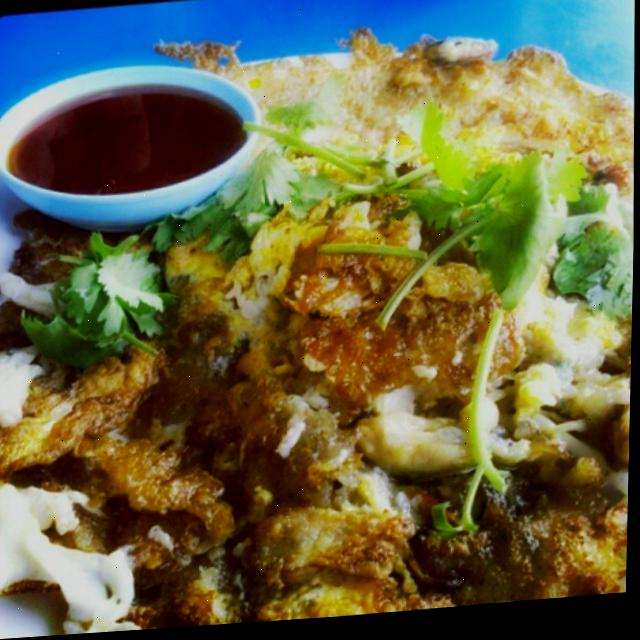炸货点心: (0, 0, 637, 640)
蛋糕甜品: (0, 0, 637, 640)
